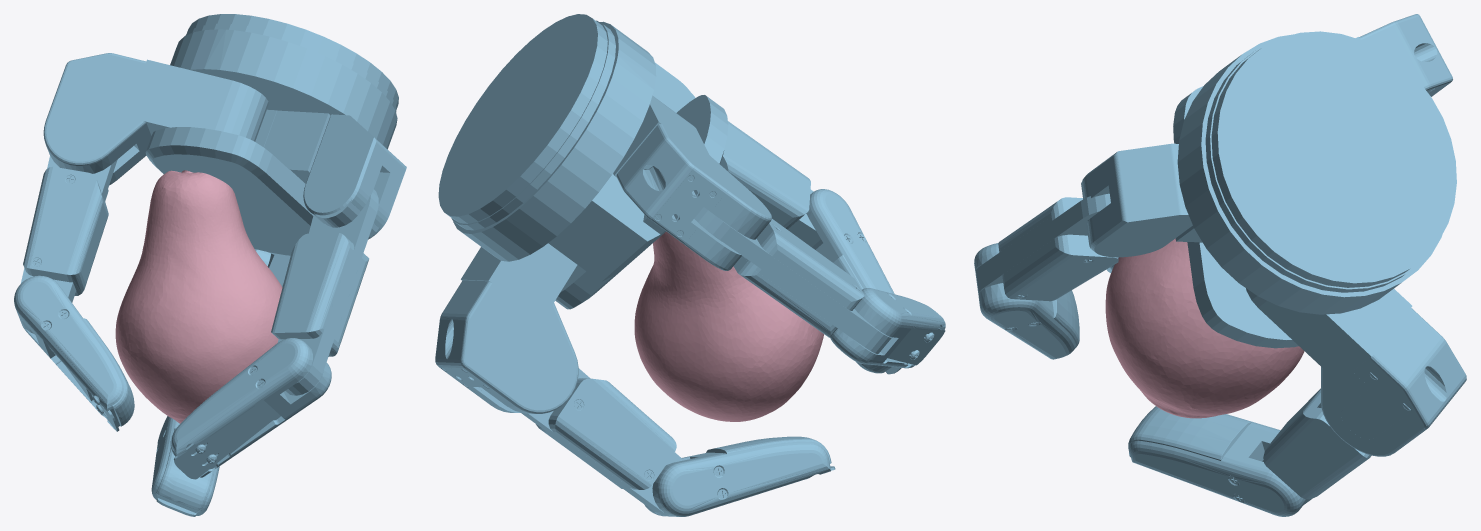
3 views of the same model, side by side, from view 1: azimuth 30°, elevation 25°; view 2: azimuth 150°, elevation 25°; view 3: azimuth 270°, elevation 25° (orthographic). The views are drawn at different scales.
Visible parts, largest first — view 1: world, pear.stl; view 2: world, pear.stl; view 3: world, pear.stl.
Boxes of the visible parts, box(x1,y1,x2,y2) form: world: box(14, 14, 406, 516); pear.stl: box(115, 170, 282, 423); world: box(435, 14, 945, 516); pear.stl: box(634, 231, 823, 421); world: box(974, 14, 1466, 516); pear.stl: box(1105, 238, 1304, 418).
Size of the model in its own units: 0.1707 by 0.1813 by 0.1572.
